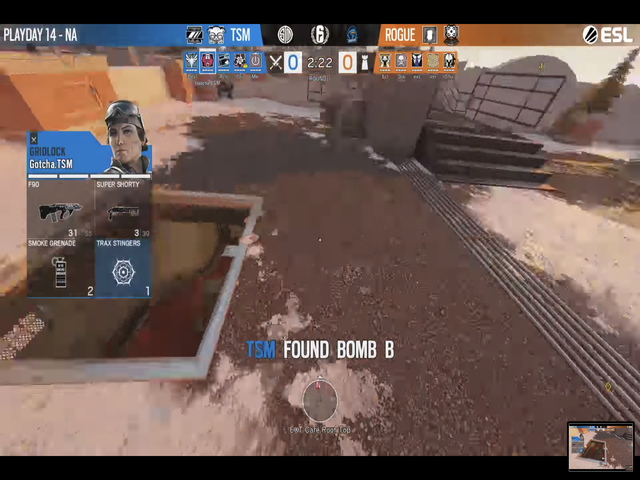0_blue: (283, 50, 304, 72)
